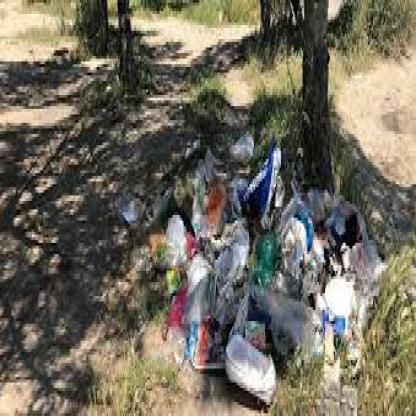Garbage: (119, 182, 295, 408), (280, 157, 382, 346), (219, 326, 276, 410), (244, 148, 292, 229), (252, 223, 296, 296), (331, 276, 373, 344), (173, 315, 228, 363), (285, 204, 318, 271), (166, 207, 194, 280), (312, 276, 341, 346), (195, 168, 222, 220), (235, 127, 256, 158)
